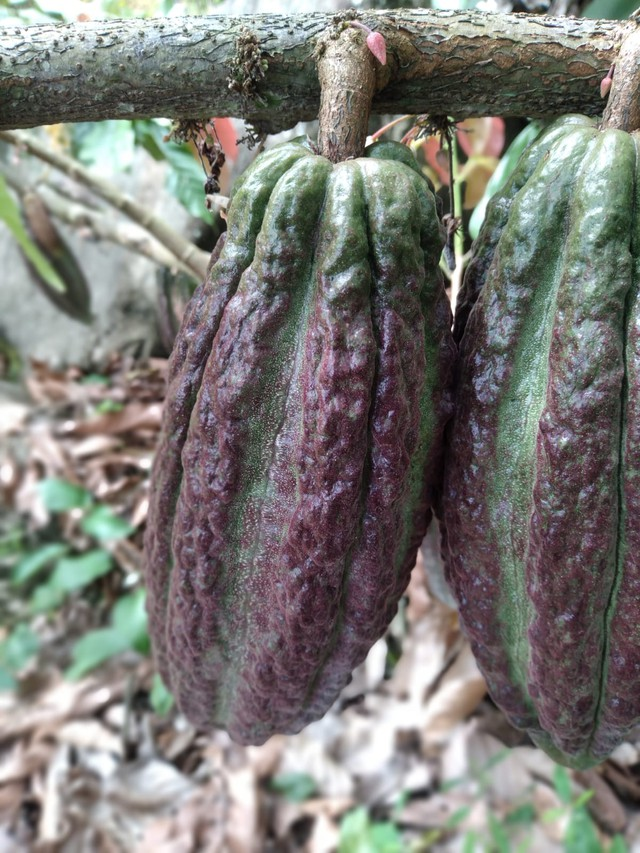Health: (106, 84, 494, 762)
